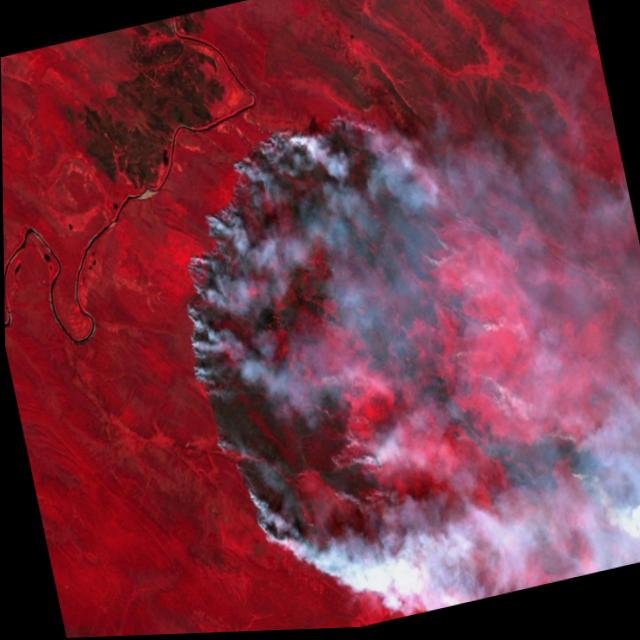fire: (141, 57, 630, 628)
